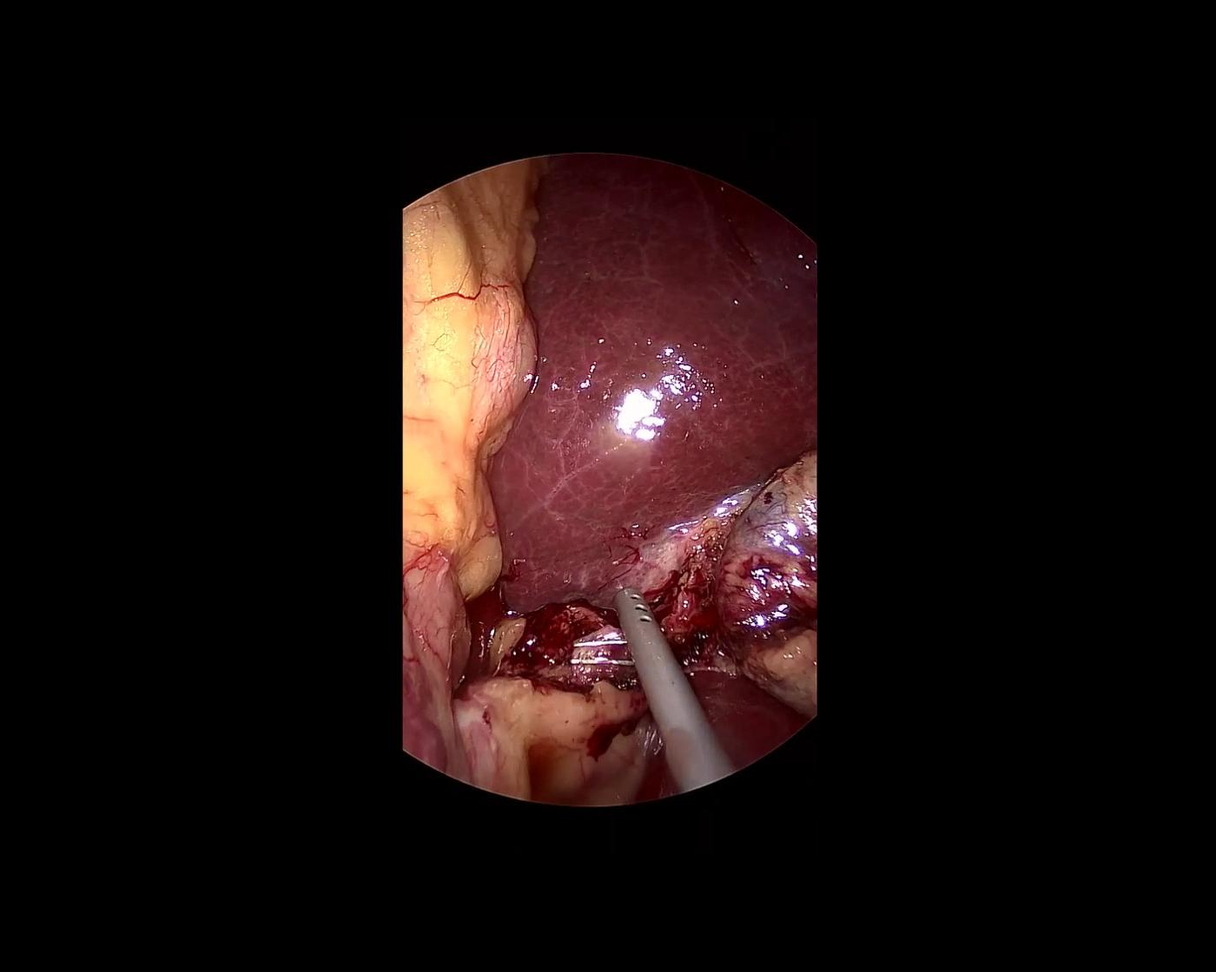Gallbladder: (715, 456, 815, 721)
Liver: (472, 148, 850, 649), (690, 643, 806, 767)
Suction: (585, 582, 731, 796)
